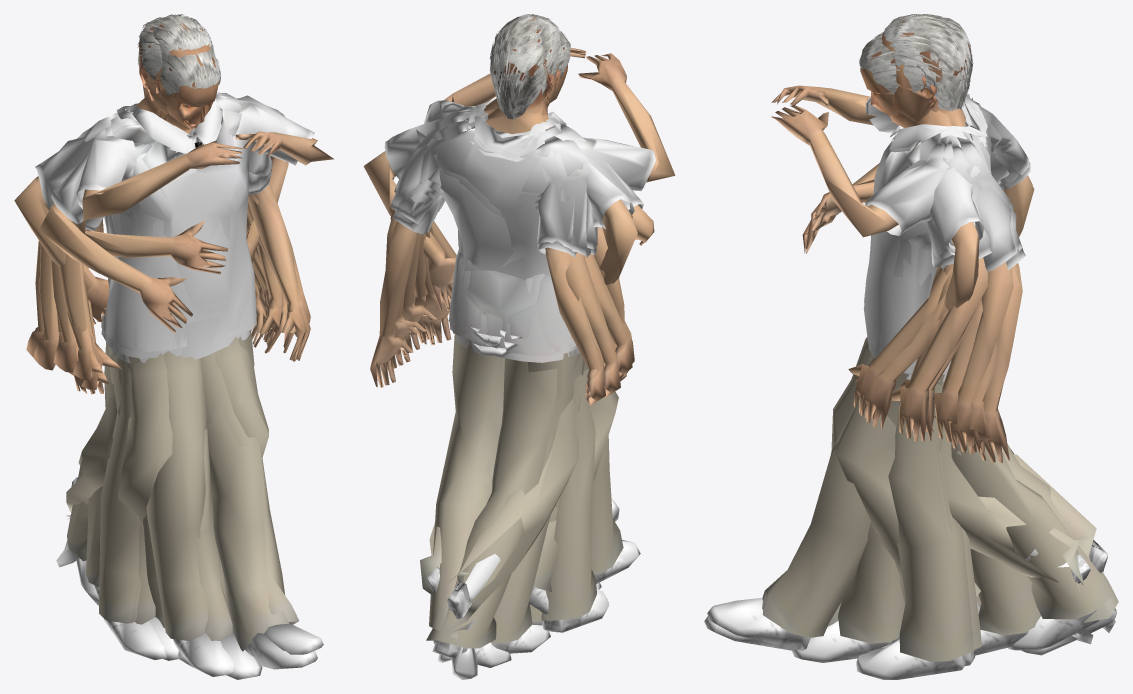
3 views of the same model, side by side, from view 1: azimuth 30°, elevation 25°; view 2: azimuth 150°, elevation 25°; view 3: azimuth 270°, elevation 25° (orthographic). The views are drawn at different scales.
Visible parts, largest first — view 1: geh1, geh6, hueften, steh, geh4, geh0, foto, handy, geh5, reden, geh3, geh2 (+1 smaller); view 2: geh6, geh4, hueften, geh2, geh3, geh7, geh5, geh1, foto, steh, geh0, reden (+1 smaller); view 3: geh7, hueften, geh2, geh5, geh0, geh4, foto, geh1, geh6, geh3, steh, handy (+1 smaller).
Boxes of the visible parts, <box> form: geh1: <box>35,69,306,676</box>; geh6: <box>67,92,317,669</box>; hueften: <box>14,95,288,659</box>; steh: <box>59,14,282,660</box>; geh4: <box>51,17,274,457</box>; geh0: <box>56,22,310,522</box>; foto: <box>76,100,334,233</box>; handy: <box>85,46,232,647</box>; geh5: <box>67,87,323,654</box>; reden: <box>38,14,236,332</box>; geh3: <box>33,39,293,666</box>; geh2: <box>26,73,310,679</box>; geh6: <box>370,71,628,667</box>; geh4: <box>397,34,632,625</box>; hueften: <box>363,107,637,632</box>; geh2: <box>425,154,622,644</box>; geh3: <box>413,46,620,662</box>; geh7: <box>385,43,616,679</box>; geh5: <box>383,55,634,653</box>; geh1: <box>429,139,640,583</box>; foto: <box>424,48,675,191</box>; steh: <box>420,14,626,590</box>; geh0: <box>390,21,618,614</box>; reden: <box>500,14,654,245</box>; geh7: <box>792,45,1115,662</box>; hueften: <box>856,94,984,679</box>; geh2: <box>827,117,1113,650</box>; geh5: <box>707,50,1022,650</box>; geh0: <box>864,30,1008,647</box>; geh4: <box>836,17,1010,644</box>; foto: <box>771,85,978,237</box>; geh1: <box>831,101,1040,655</box>; geh6: <box>704,66,1118,655</box>; geh3: <box>865,38,1093,644</box>; steh: <box>868,15,981,665</box>; handy: <box>811,32,973,664</box>.
Size of the model in its own units: 0.846 by 1.77 by 1.04.
1 material, 1 textured.
